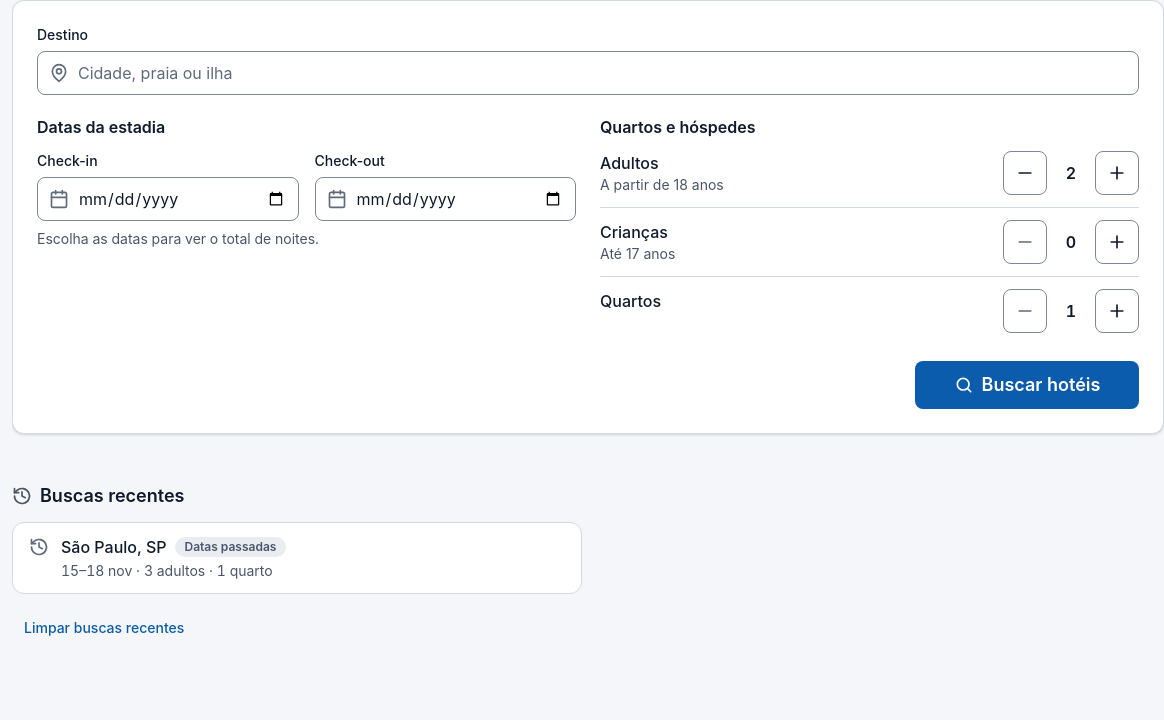
Scenario: RecentSearches › check-in passado: mantém destino e hóspedes, esvazia datas, foca o check-in e avisa
The width and height of the screenshot is (1164, 720).
Expected: the text "Datas passadas" is shown, [174,537,286,557]
Click the button "Datas passadas". click: (114, 547)
box: [12,522,582,594]
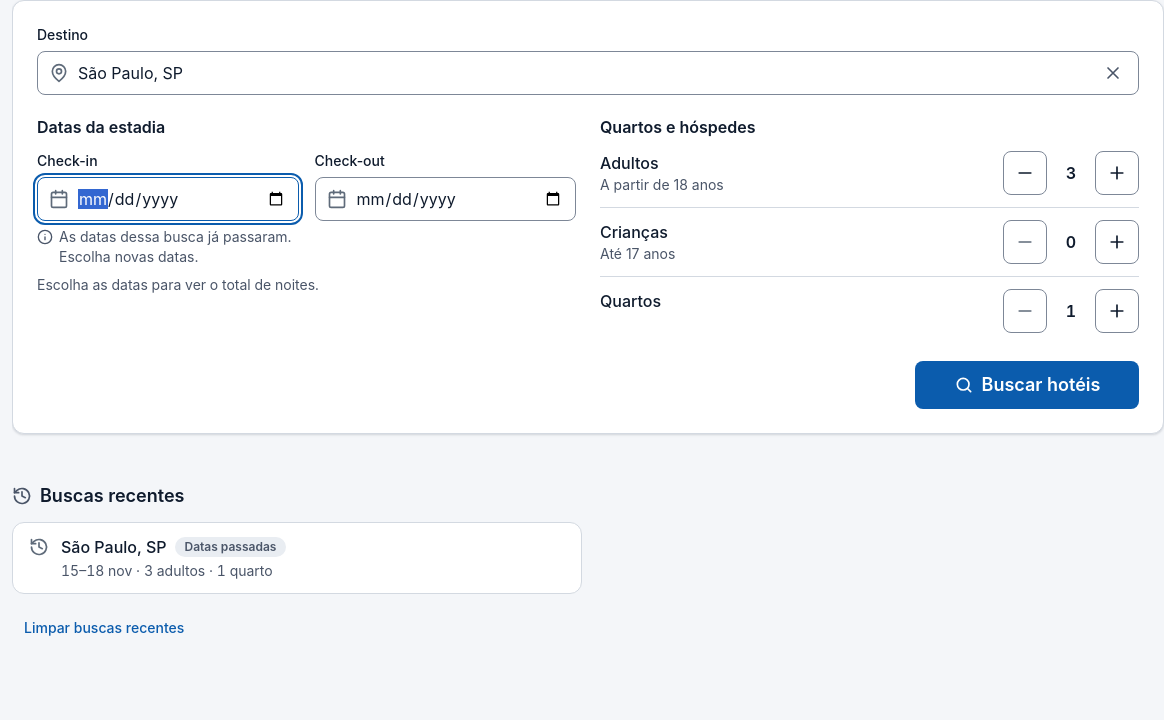
Now the dropdown labelled "Destino" holds "São Paulo, SP", box [37,51,1139,95]
Now the element "Adultos" shows "3", box [1066,163,1076,183]
Now the text "As datas dessa busca já passaram. Escolha novas datas." is shown 2 times
